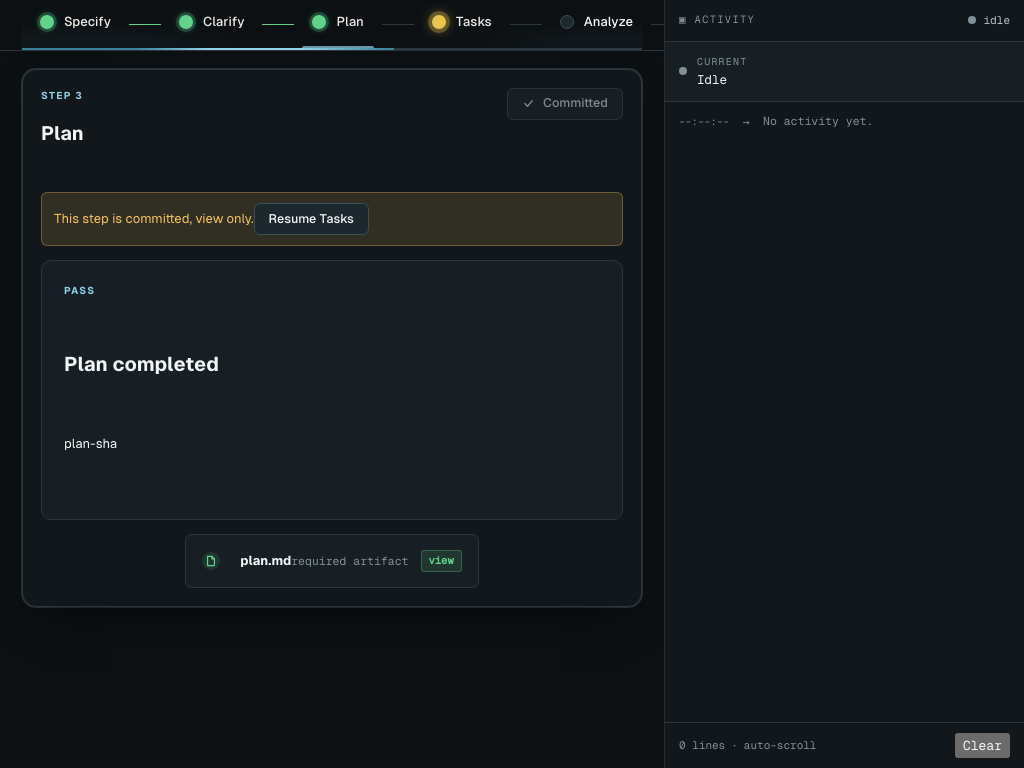
Test case: WorkspaceContainer step derivation (prior-step-complete unlock chain) › opens completed plan artifacts without recursive workspace rendering
Click the text "plan.md" at (266, 561), box [240,553,291,568]
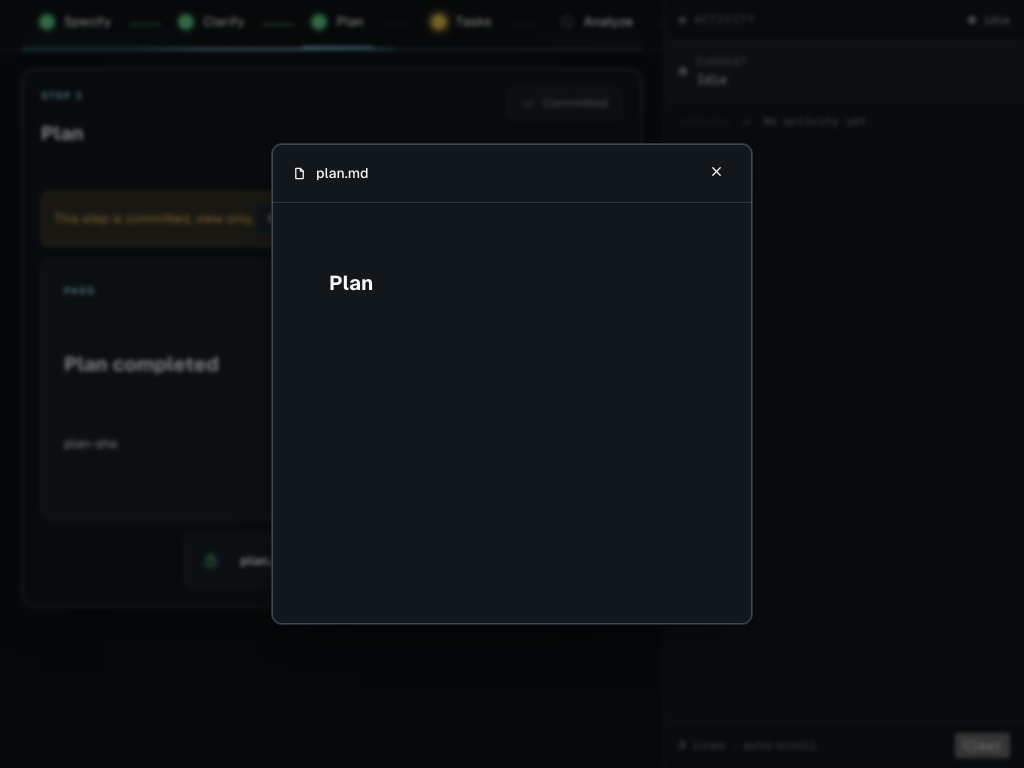
expect the dialog "plan.md" is shown: met, box [272,144,752,624]
